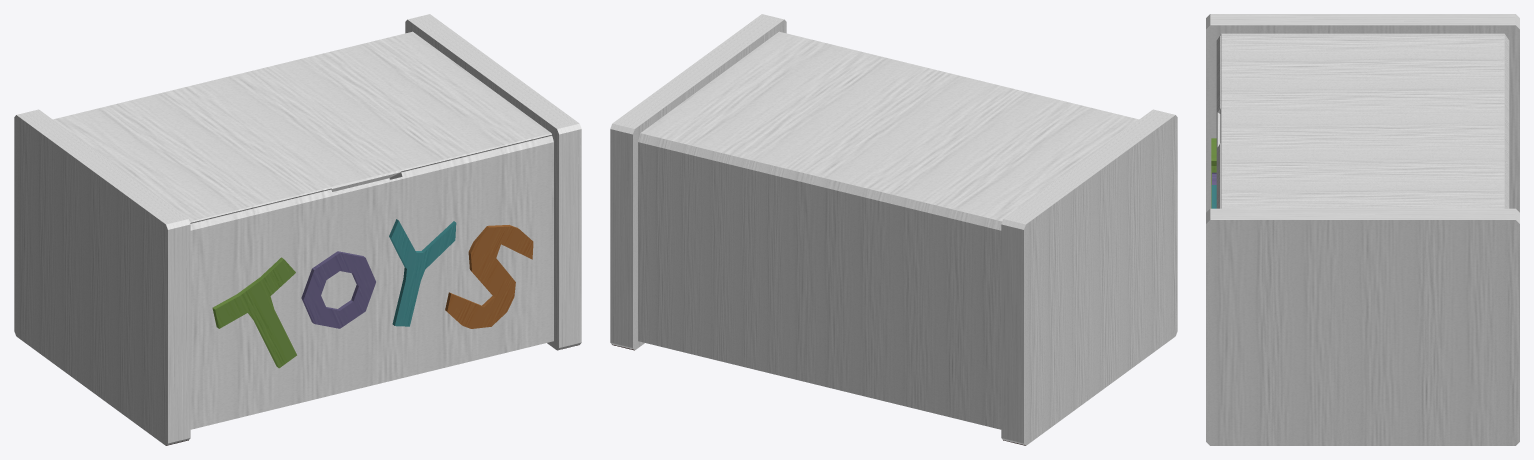
The model's file is Toybox.FBX.
The picture shows the model from 3 angles, left to right: view 1: azimuth 30°, elevation 25°; view 2: azimuth 150°, elevation 25°; view 3: azimuth 270°, elevation 25°; orthographic projection. The views are drawn at different scales.
Parts seen in each view (by area): view 1: Toybox; view 2: Toybox; view 3: Toybox.
Boxes of the visible parts, x1,y1,x2,y2 form: Toybox: (14, 14, 581, 445); Toybox: (610, 14, 1177, 445); Toybox: (1206, 14, 1519, 445).
Size of the model in its own units: 217 by 111 by 140.
